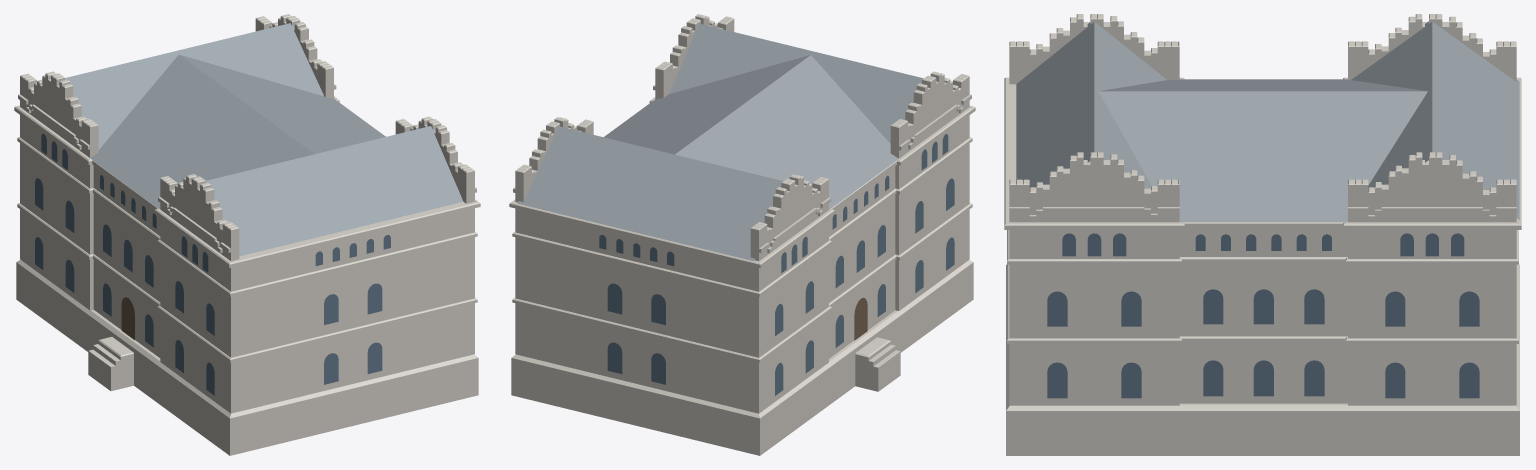
Rendered from atx-capitol-visitors-center.glb.
3 renders of one model, left to right at view 1: azimuth 30°, elevation 25°; view 2: azimuth 150°, elevation 25°; view 3: azimuth 270°, elevation 25°, orthographic. The views are drawn at different scales.
Visible parts, largest first — view 1: Capitol Complex Visitors Center (General Land Office Buildin; view 2: Capitol Complex Visitors Center (General Land Office Buildin; view 3: Capitol Complex Visitors Center (General Land Office Buildin.
Part boxes in pixels (x1,y1,x2,y2): Capitol Complex Visitors Center (General Land Office Buildin: (14, 14, 480, 455); Capitol Complex Visitors Center (General Land Office Buildin: (509, 14, 975, 455); Capitol Complex Visitors Center (General Land Office Buildin: (1004, 14, 1521, 455).
Size of the model in its own units: 22.5 by 19.5 by 30.7.
